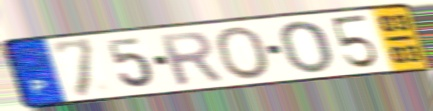5: (327, 12, 379, 71), (105, 35, 157, 91)
7: (50, 37, 99, 100)
O: (212, 25, 274, 82), (277, 19, 335, 75)
R: (154, 29, 226, 87)
